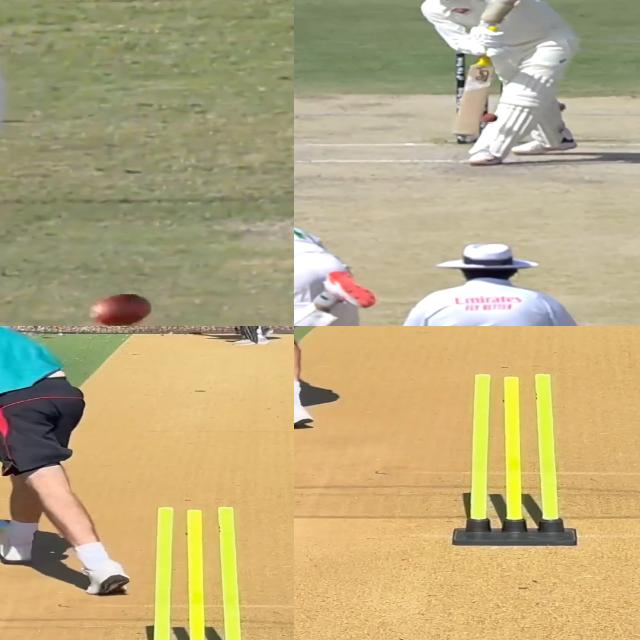Cricket ball: (90, 294, 154, 326), (479, 113, 499, 124)
Stumps: (451, 372, 579, 546), (150, 504, 250, 640)
